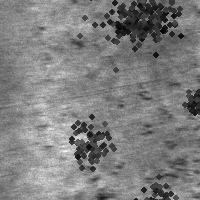rolled-in_scale: (75, 111, 199, 196), (71, 0, 179, 68), (32, 22, 133, 70), (55, 106, 123, 174), (125, 0, 185, 45), (104, 0, 156, 49), (169, 75, 200, 123), (129, 174, 179, 200)
